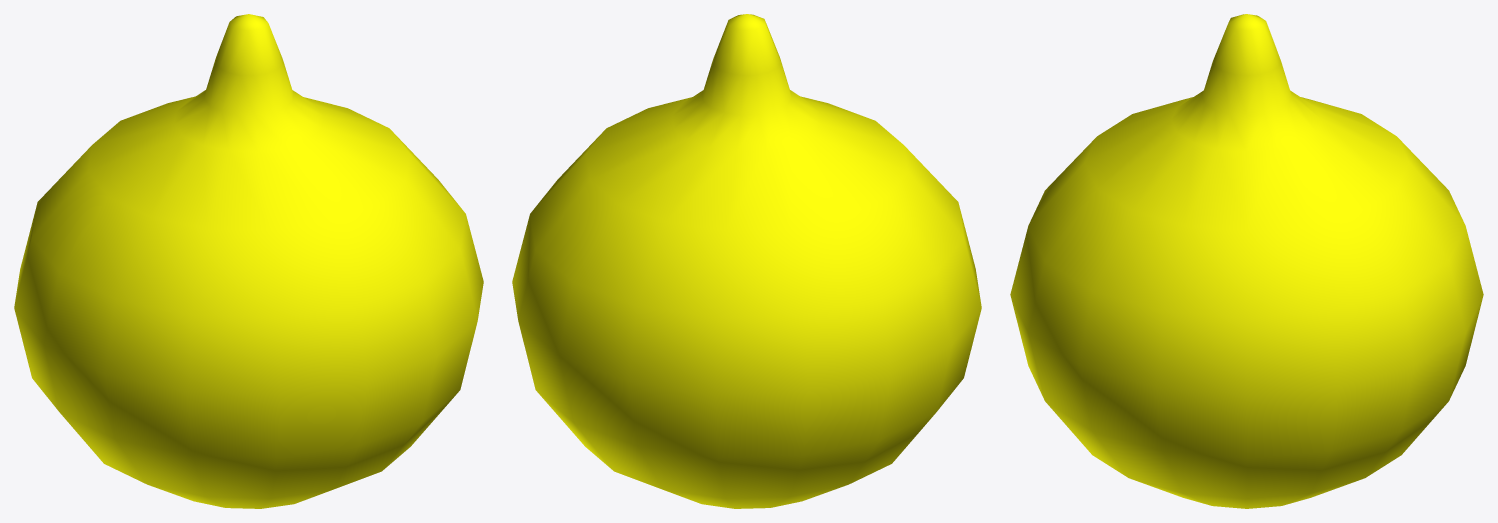
The model's file is kaykit-food-ingredient-onion.glb.
The picture shows the model from 3 angles, left to right: view 1: azimuth 30°, elevation 25°; view 2: azimuth 150°, elevation 25°; view 3: azimuth 270°, elevation 25°; orthographic projection.
Parts seen in each view (by area): view 1: food_ingredient_onion; view 2: food_ingredient_onion; view 3: food_ingredient_onion.
Boxes of the visible parts, x1,y1,x2,y2 form: food_ingredient_onion: (14,14,483,508); food_ingredient_onion: (512,14,981,508); food_ingredient_onion: (1010,14,1483,508).
Size of the model in its own units: 0.75 by 0.8624 by 0.75.
